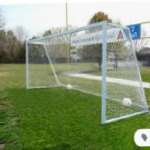goals: (22, 20, 150, 123)
